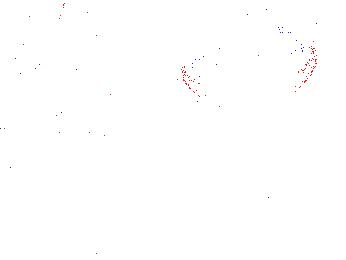moon jellyfish: (181, 30, 316, 113), (16, 17, 121, 84), (91, 1, 193, 46), (1, 79, 34, 137)
